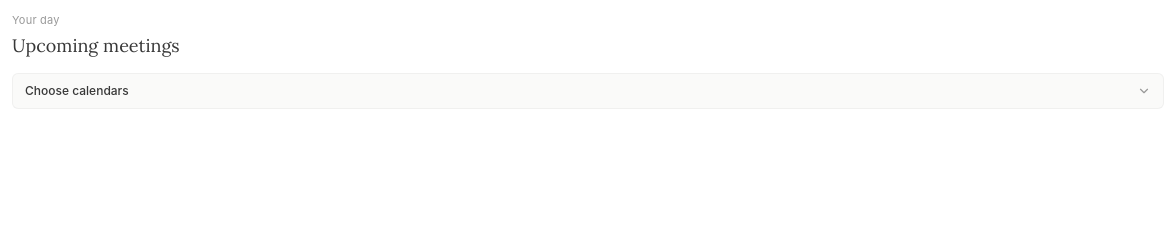
it: UpcomingMeetings › supports single-line dropdown trigger and instant multi-select popover
Later steps or results of the test are not shown.
// Click trigger to open popover
What coordinates should you click on to do the following:
click the button with aria-label "Choose calendars"
I would click on:
 (77, 90)
Its box is [12,73,1164,109].
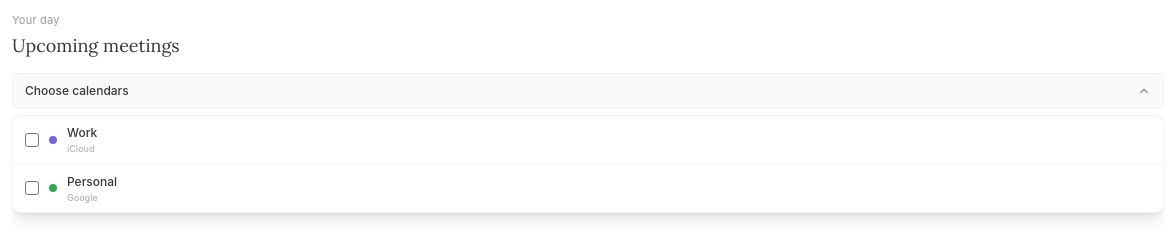
Expected: the menu is shown, [12,115,1164,213]
// Instant toggle: checking the first calendar immediately commits it
What coordinates should you click on to do the following:
click the checkbox labelled "Work iCloud"
I would click on:
 (32, 140)
Its box is [25,133,39,147].
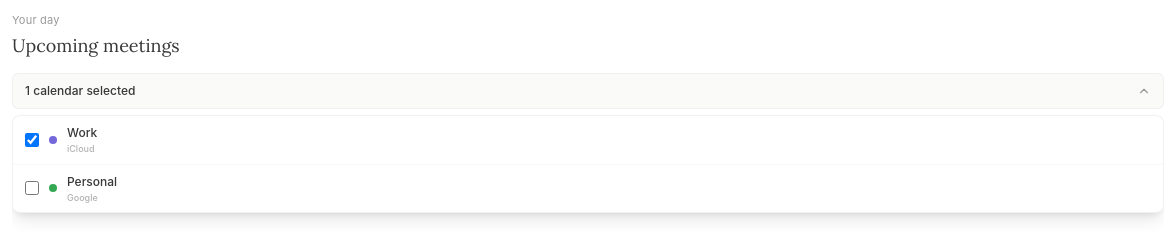
// Checking second calendar immediately commits both
What coordinates should you click on to do the following:
click the checkbox labelled "Personal Google"
I would click on:
 (32, 188)
Its box is [25,181,39,195].
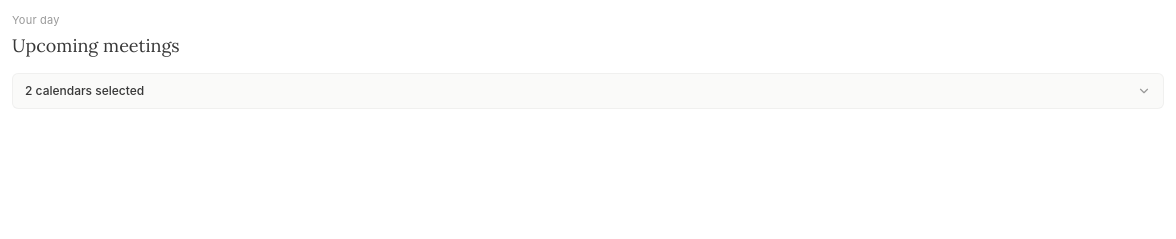
Expected: the button named "Choose calendars" is collapsed, [12,73,1164,109]
Expected: the menu is gone
